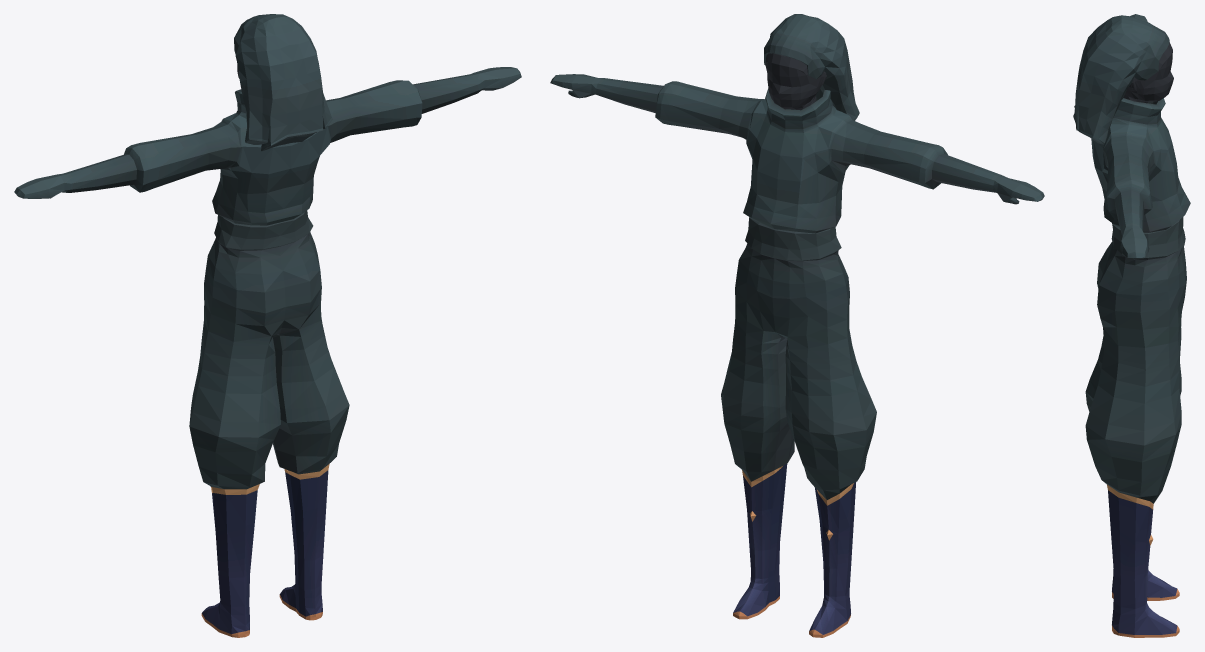
File: CharSkyNPC_Body_ActorRig.glb
The picture shows the model from 3 angles, left to right: view 1: azimuth 30°, elevation 25°; view 2: azimuth 150°, elevation 25°; view 3: azimuth 270°, elevation 25°; orthographic projection. The views are drawn at different scales.
Visible parts, largest first — view 1: CharSkyNPC_Body_ActorRig; view 2: CharSkyNPC_Body_ActorRig; view 3: CharSkyNPC_Body_ActorRig.
Part boxes in pixels (bbox=[...]): CharSkyNPC_Body_ActorRig: bbox=[14, 14, 521, 637]; CharSkyNPC_Body_ActorRig: bbox=[550, 14, 1044, 637]; CharSkyNPC_Body_ActorRig: bbox=[1073, 14, 1190, 637].
Bounding box in the file's own units: 13.15 × 15.15 × 2.72.
Materials: 1 (1 with a texture image).
